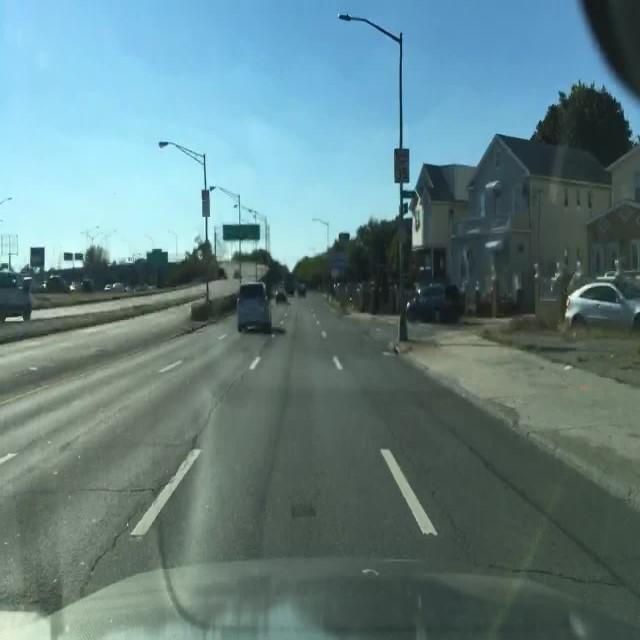normal: (562, 272, 637, 328), (408, 283, 465, 323), (234, 280, 271, 333)
